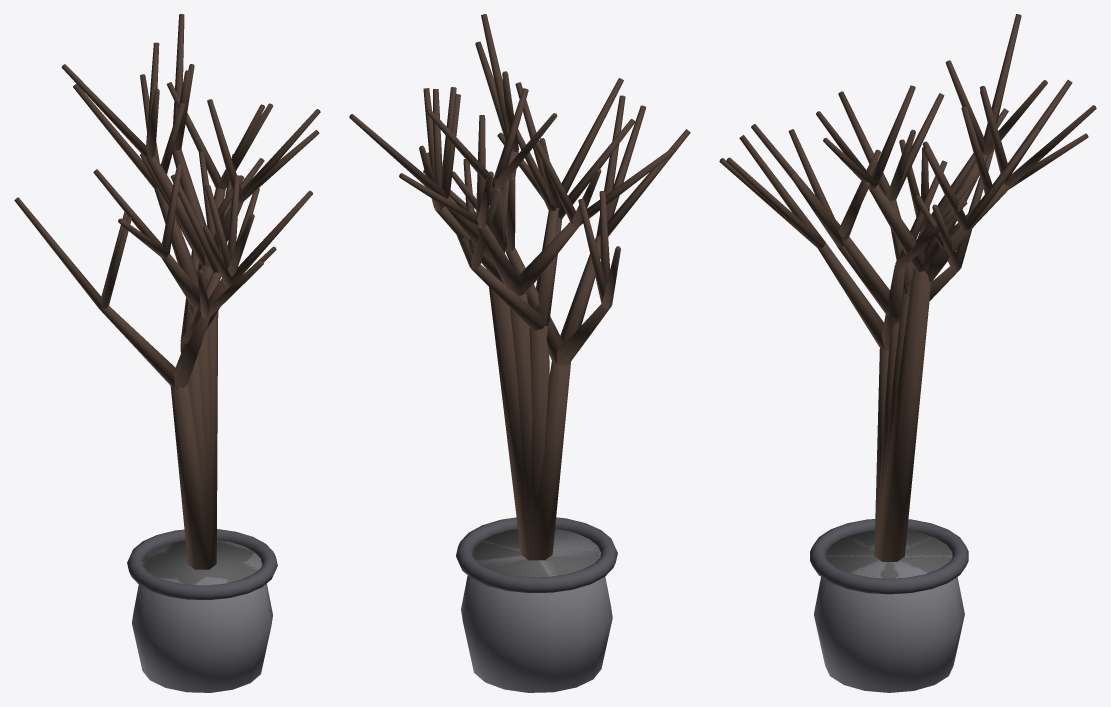
File: withered_plant_dead_tree_c.glb
3 renders of one model, left to right at view 1: azimuth 30°, elevation 25°; view 2: azimuth 150°, elevation 25°; view 3: azimuth 270°, elevation 25°, orthographic. The views are drawn at different scales.
Parts seen in each view (by area): view 1: GD_withered_plant_dead_tree_c__m2, GD_withered_plant_dead_tree_c__m0, GD_withered_plant_dead_tree_c__m1, GD_withered_plant_dead_tree_c__m3; view 2: GD_withered_plant_dead_tree_c__m2, GD_withered_plant_dead_tree_c__m0, GD_withered_plant_dead_tree_c__m1, GD_withered_plant_dead_tree_c__m3; view 3: GD_withered_plant_dead_tree_c__m2, GD_withered_plant_dead_tree_c__m0, GD_withered_plant_dead_tree_c__m1, GD_withered_plant_dead_tree_c__m3.
Part boxes in pixels (left/top/right/bottom): GD_withered_plant_dead_tree_c__m2: left=14, top=14, right=320, bottom=569; GD_withered_plant_dead_tree_c__m0: left=132, top=540, right=272, bottom=692; GD_withered_plant_dead_tree_c__m1: left=127, top=529, right=277, bottom=599; GD_withered_plant_dead_tree_c__m3: left=143, top=540, right=259, bottom=584; GD_withered_plant_dead_tree_c__m2: left=349, top=14, right=690, bottom=560; GD_withered_plant_dead_tree_c__m0: left=461, top=529, right=612, bottom=692; GD_withered_plant_dead_tree_c__m1: left=456, top=517, right=617, bottom=593; GD_withered_plant_dead_tree_c__m3: left=473, top=529, right=600, bottom=577; GD_withered_plant_dead_tree_c__m2: left=719, top=14, right=1096, bottom=561; GD_withered_plant_dead_tree_c__m0: left=814, top=530, right=964, bottom=692; GD_withered_plant_dead_tree_c__m1: left=810, top=519, right=968, bottom=594; GD_withered_plant_dead_tree_c__m3: left=826, top=530, right=952, bottom=578.
Size of the model in its own units: 0.7148 by 1.79 by 0.9986.
